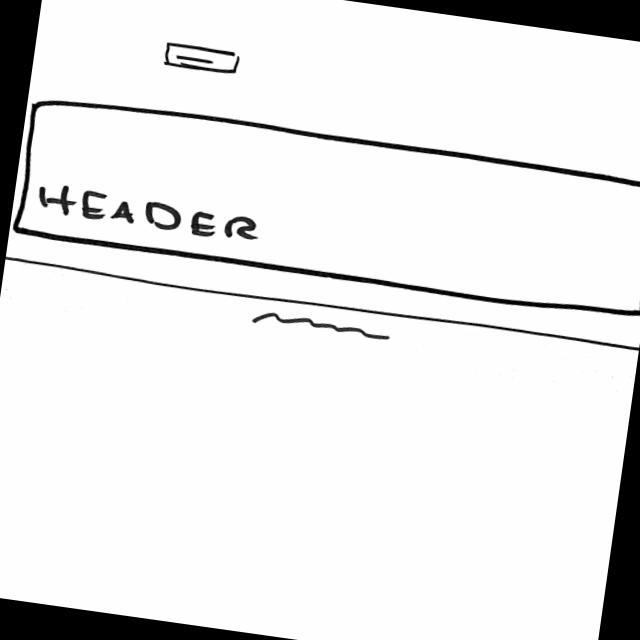container: (11, 92, 640, 325)
icon-button: (158, 39, 244, 79)
label: (35, 181, 267, 247)
text: (252, 310, 396, 346)
